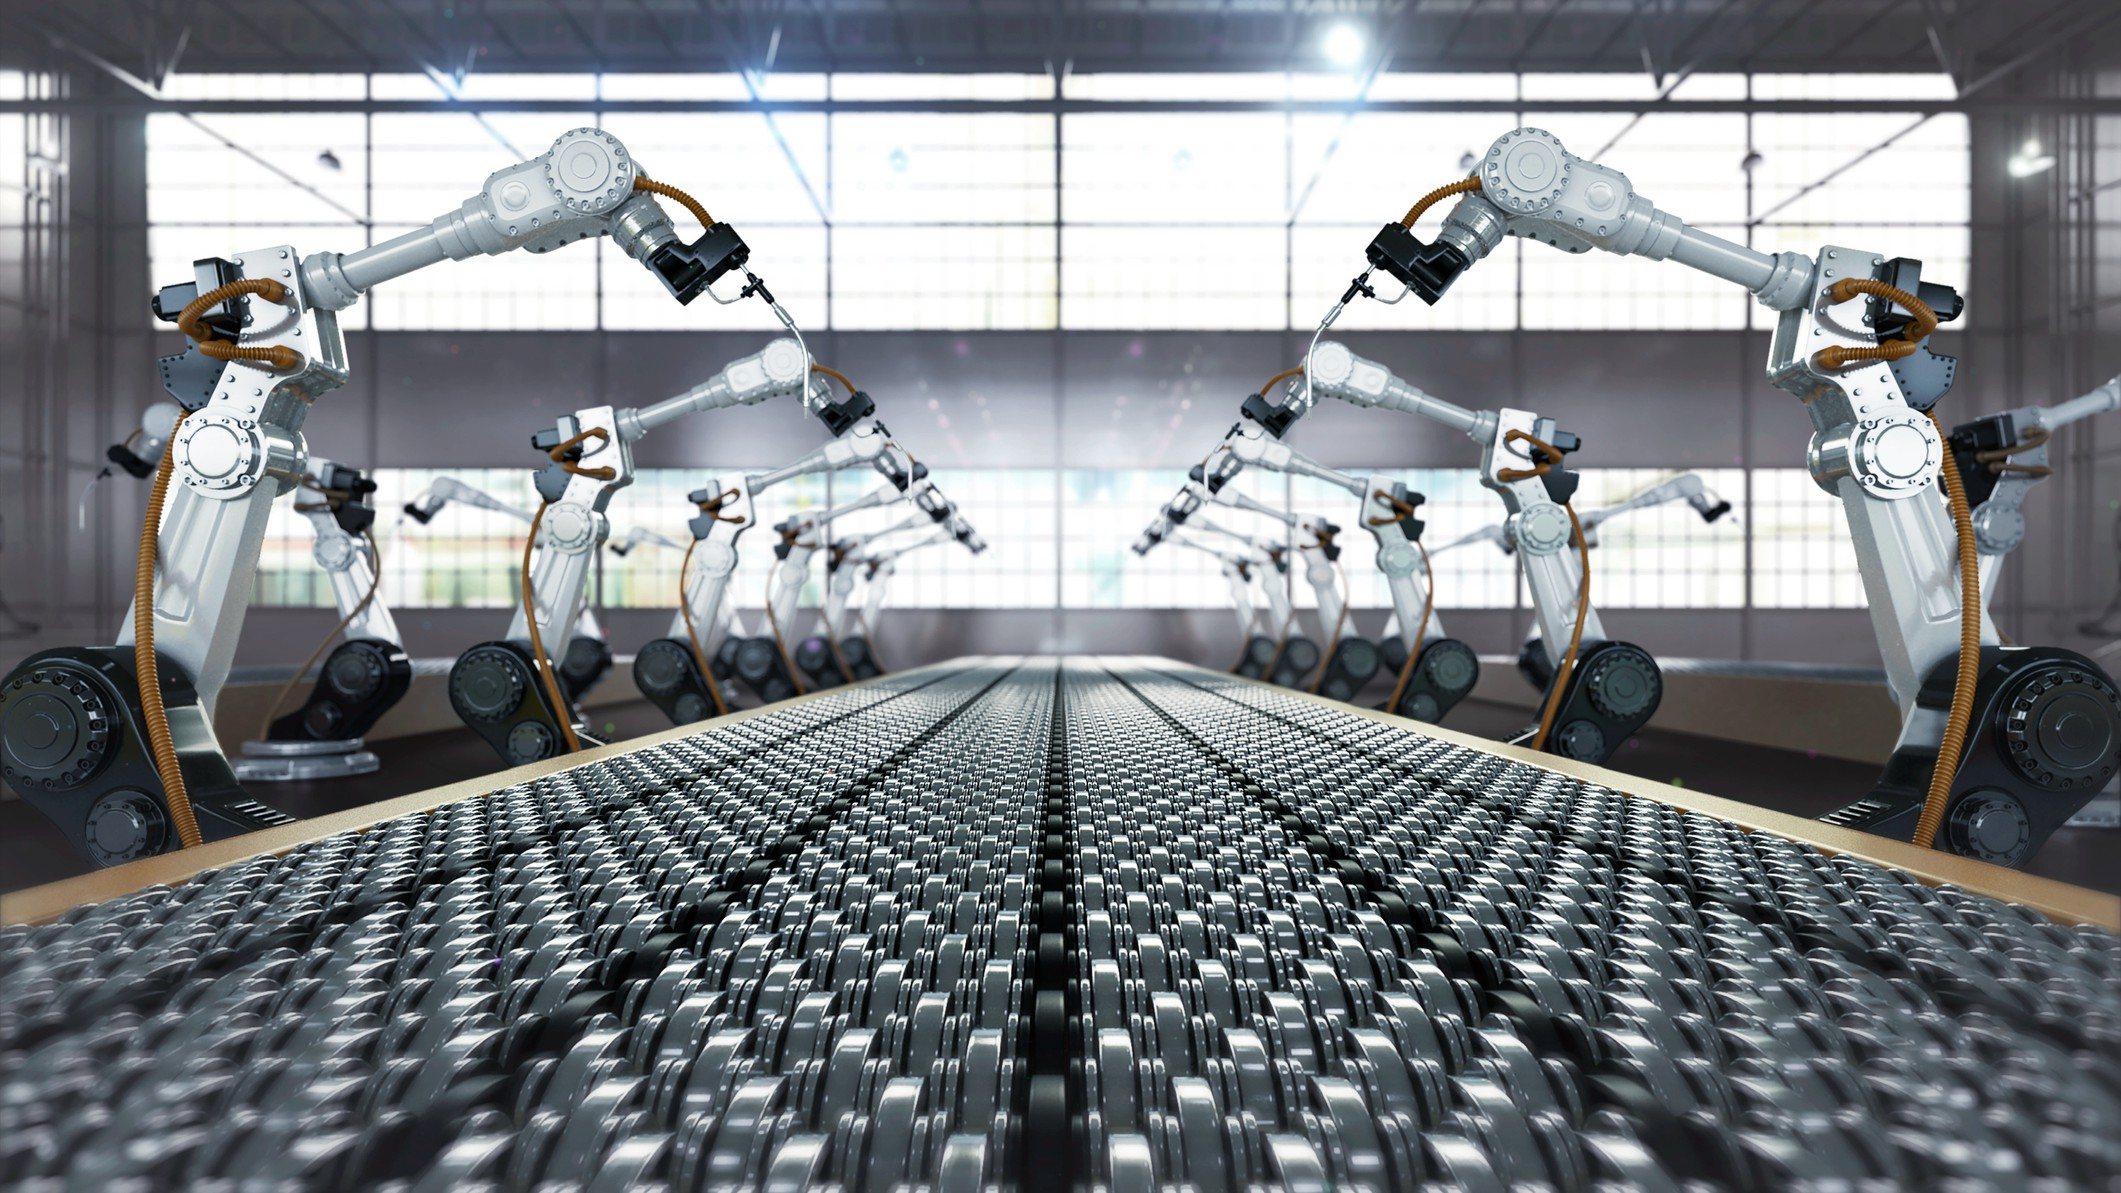robot: (1369, 131, 2121, 875), (1, 125, 753, 816), (1243, 339, 1665, 773), (443, 334, 880, 728), (84, 399, 409, 776), (1190, 396, 1473, 721), (628, 431, 928, 699), (1170, 484, 1375, 706), (733, 487, 953, 676), (1160, 489, 1318, 685), (798, 508, 977, 676), (843, 521, 991, 685), (1133, 516, 1273, 672)
